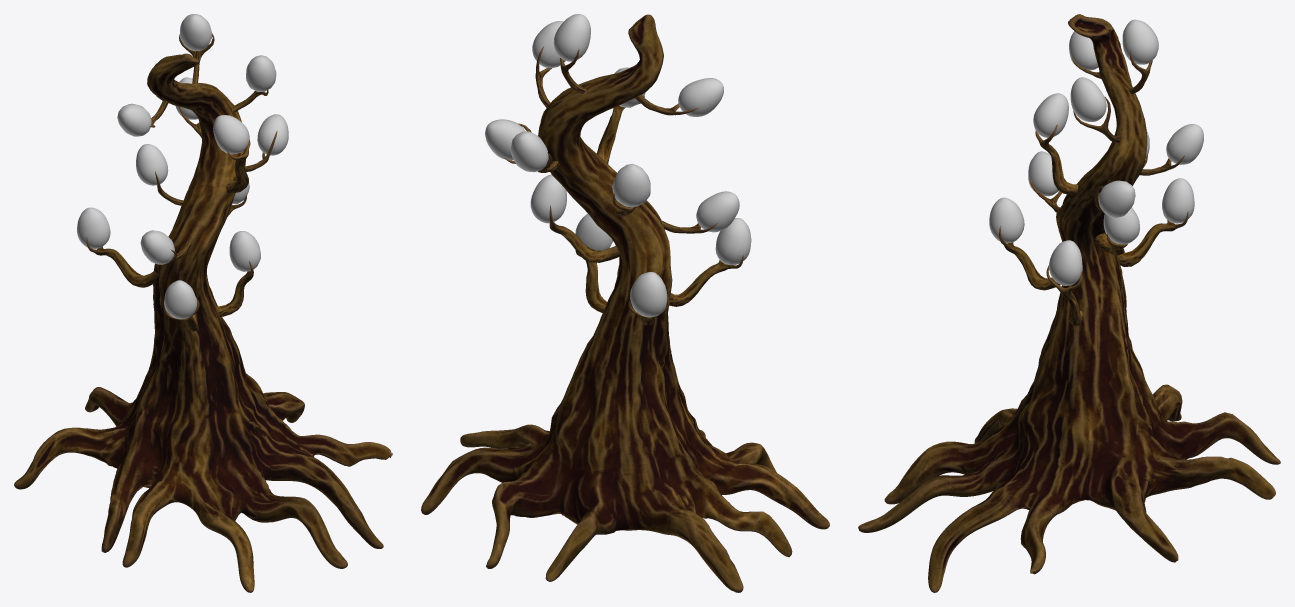
The model's file is SM_CentrepieceTree.fbx.
3 renders of one model, left to right at view 1: azimuth 30°, elevation 25°; view 2: azimuth 150°, elevation 25°; view 3: azimuth 270°, elevation 25°, orthographic. The views are drawn at different scales.
Parts seen in each view (by area): view 1: TreeBranched, Egglights; view 2: TreeBranched, Egglights; view 3: TreeBranched, Egglights.
Boxes of the visible parts, x1=… form: TreeBranched: x1=14, y1=33, x2=392, y2=592; Egglights: x1=77, y1=14, x2=288, y2=319; TreeBranched: x1=421, y1=14, x2=829, y2=592; Egglights: x1=485, y1=14, x2=751, y2=317; TreeBranched: x1=858, y1=14, x2=1280, y2=592; Egglights: x1=989, y1=19, x2=1203, y2=285.
Size of the model in its own units: 5369 by 8045 by 5885.
